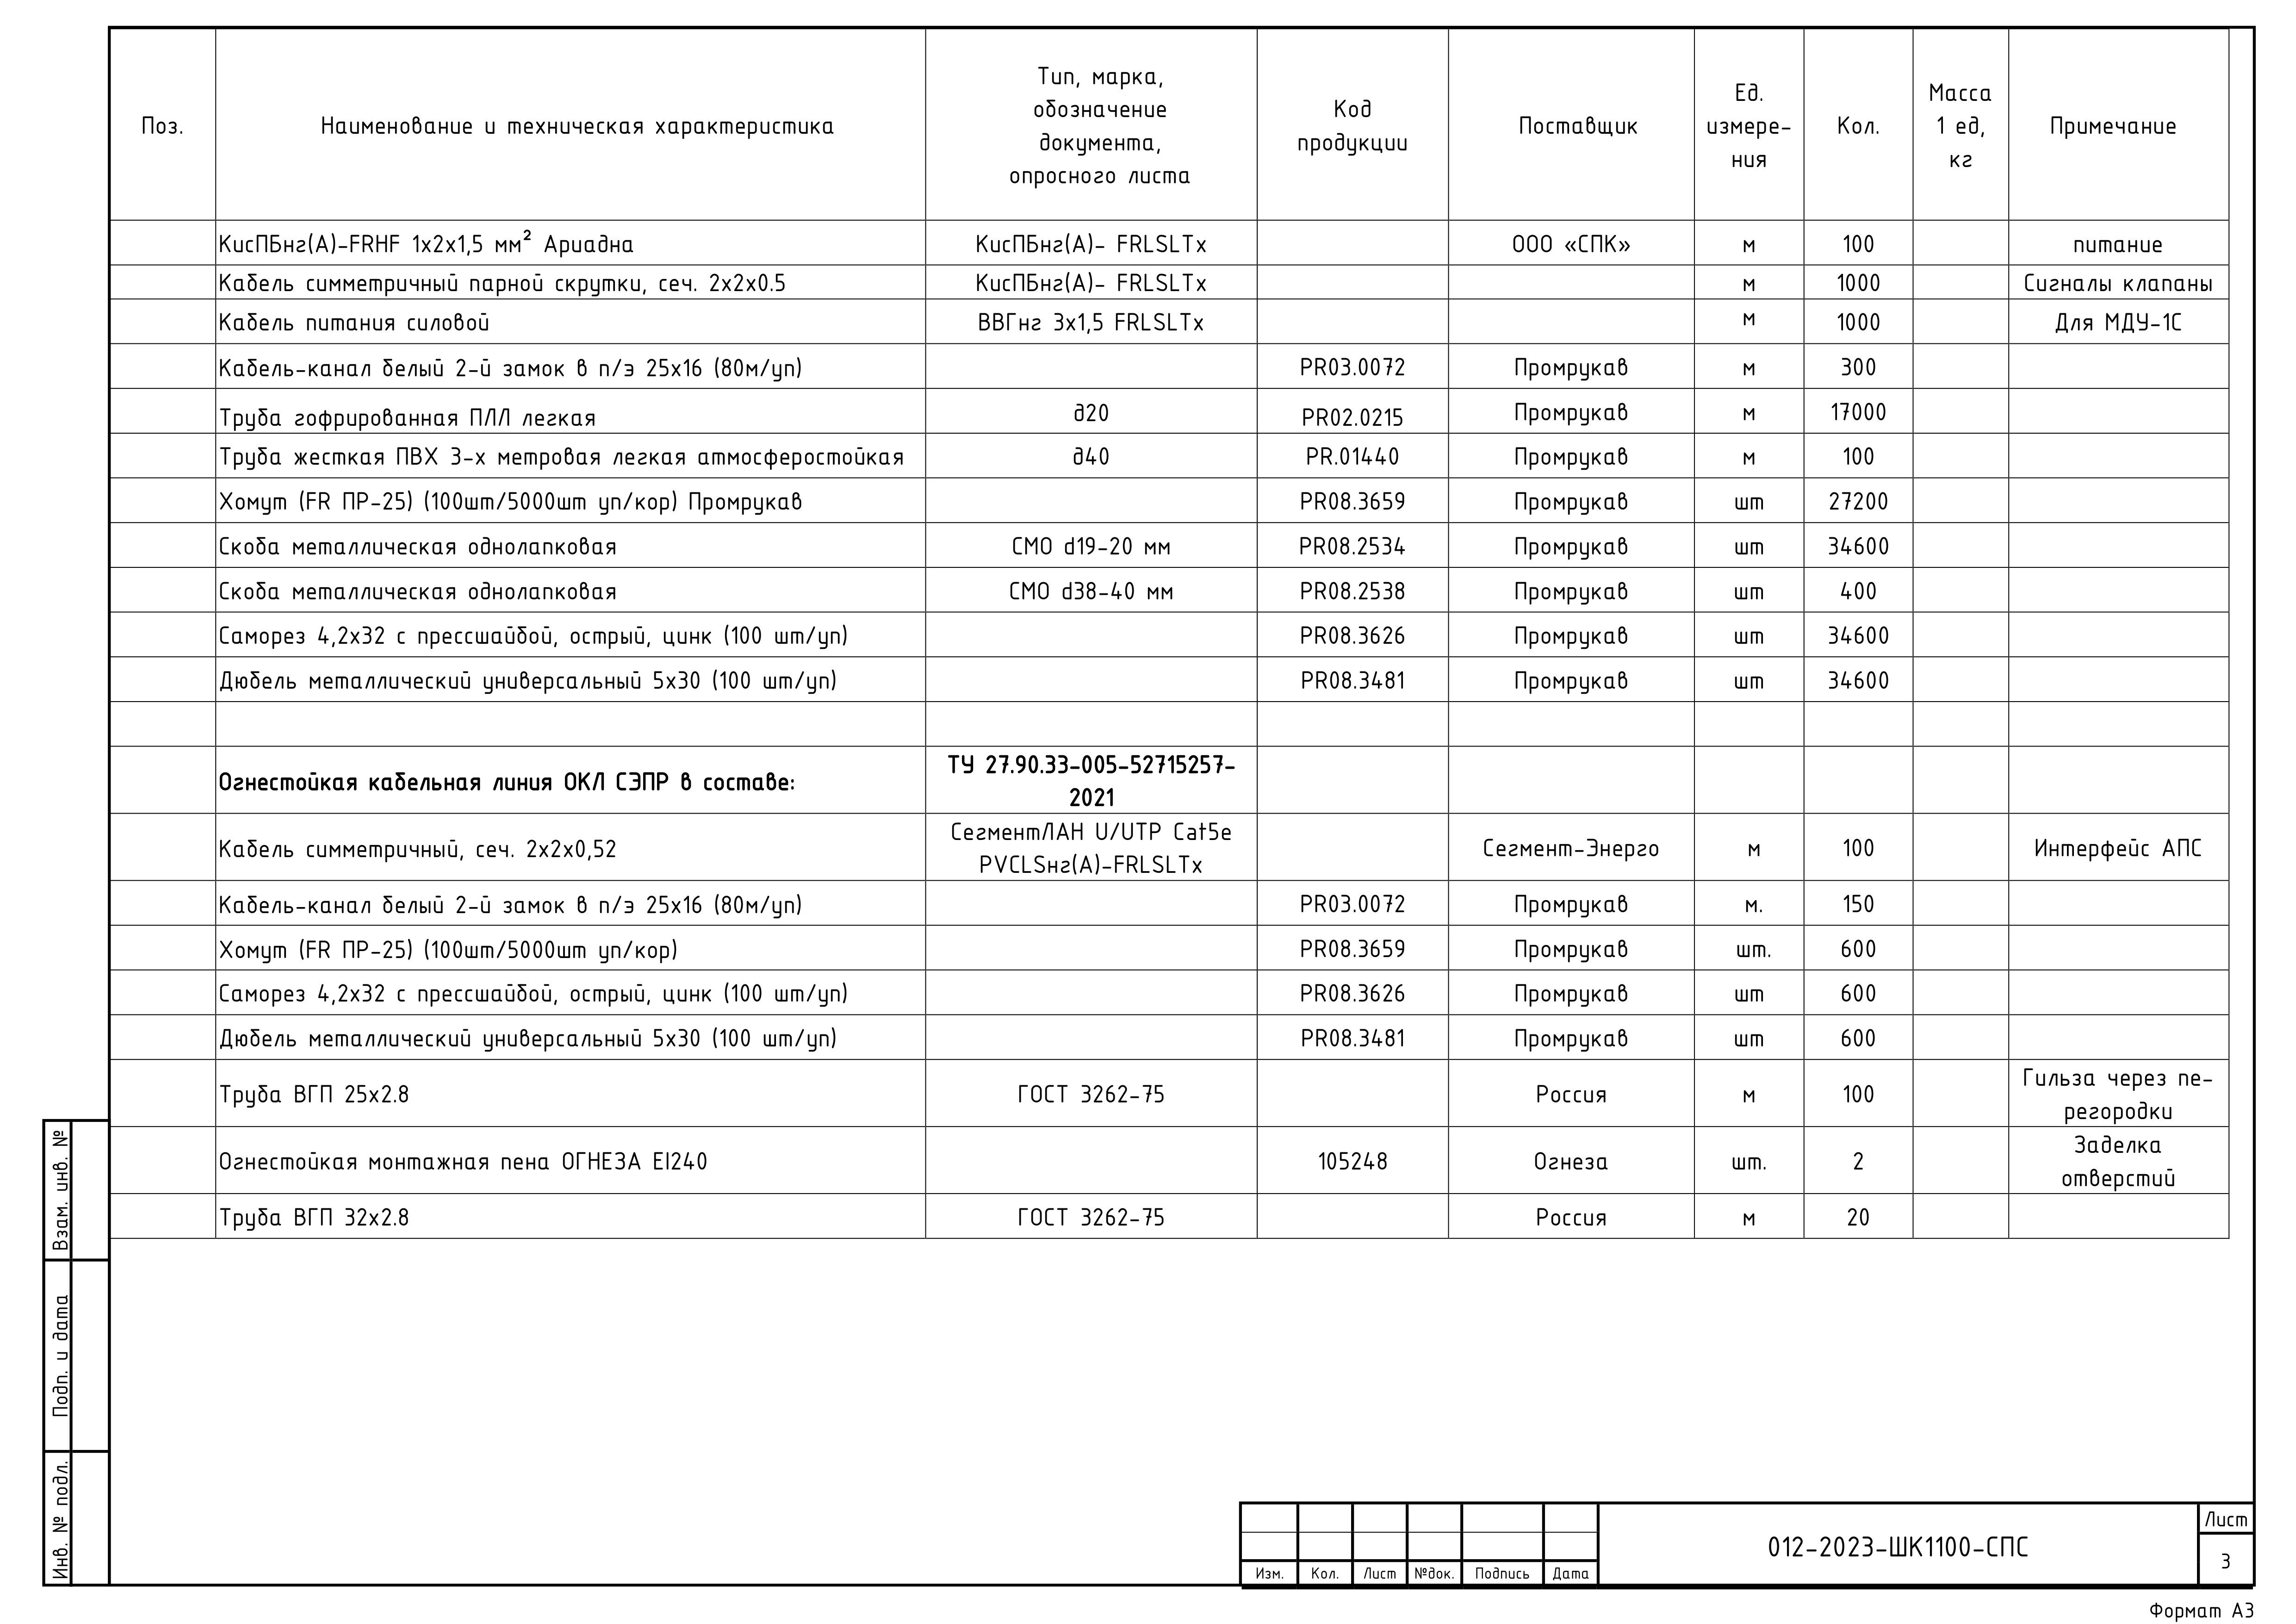Name of costs: (215, 221, 925, 1239)
Note: (924, 222, 1259, 1238)
Quantity: (1805, 220, 1913, 1239)
Unit of measurement: (1695, 220, 1804, 1238)
